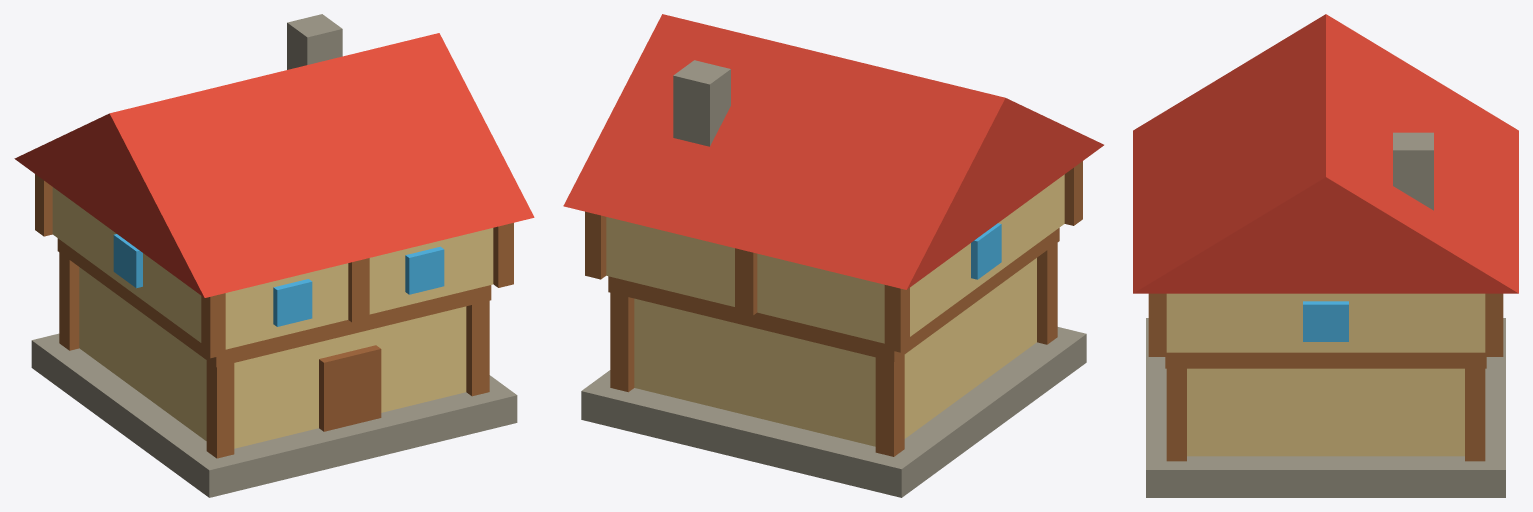
Rendered from house_t2_v1.glb.
The picture shows the model from 3 angles, left to right: view 1: azimuth 30°, elevation 25°; view 2: azimuth 150°, elevation 25°; view 3: azimuth 270°, elevation 25°; orthographic projection. The views are drawn at different scales.
Visible parts, largest first — view 1: house_t2_v1; view 2: house_t2_v1; view 3: house_t2_v1.
Boxes of the visible parts, x1,y1,x2,y2 form: house_t2_v1: (14, 14, 534, 497); house_t2_v1: (563, 14, 1103, 497); house_t2_v1: (1133, 14, 1518, 497).
Size of the model in its own units: 0.75 by 0.7 by 0.75.
1 material, 1 textured.
